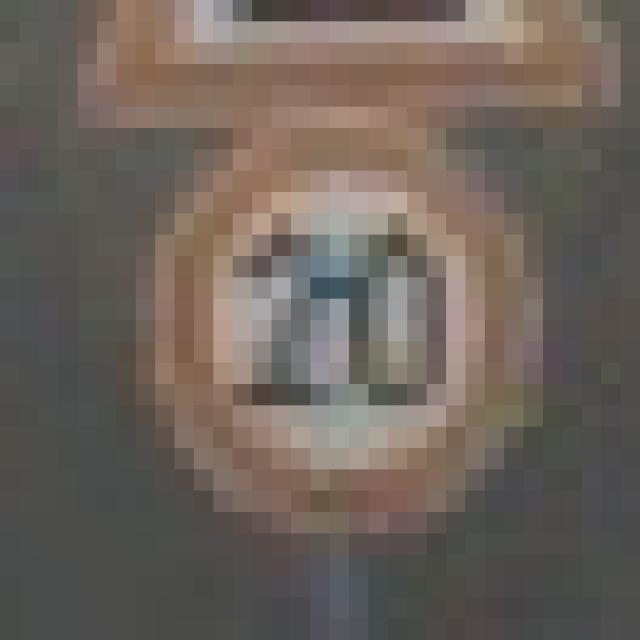Speed Limit -20-: (116, 107, 543, 533)
